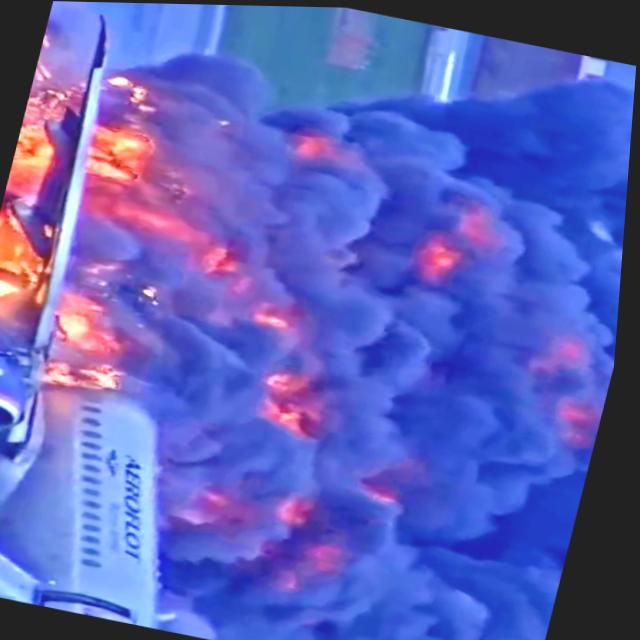fire: (0, 102, 67, 341)
smoke: (178, 47, 637, 540), (210, 463, 583, 640)
